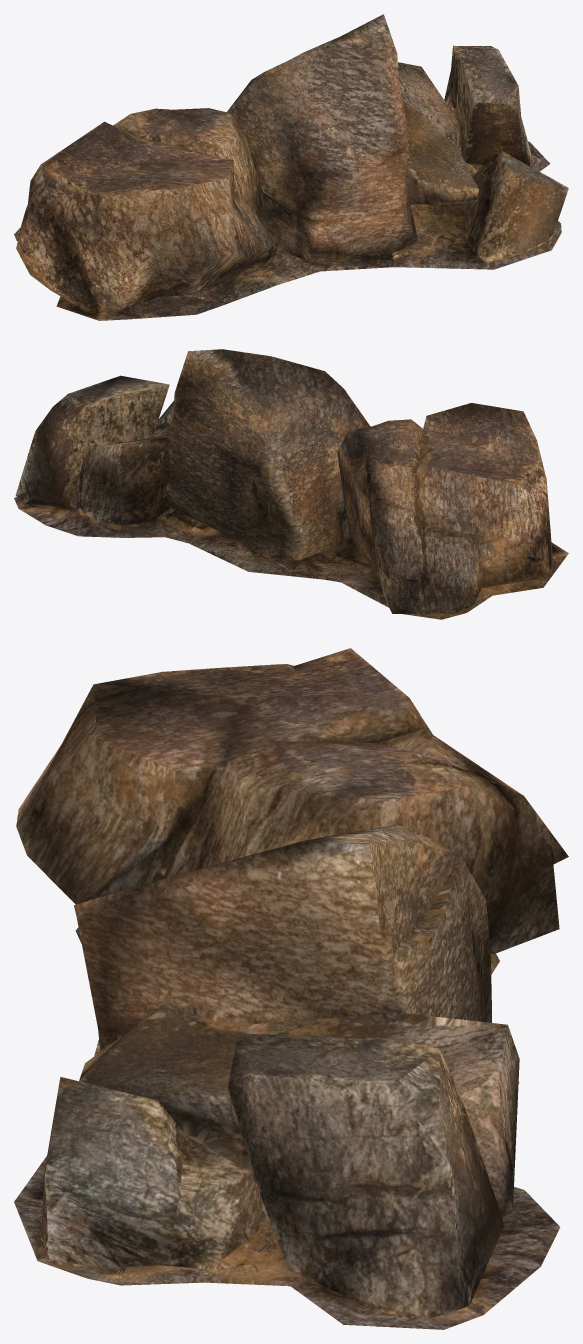
Rendered from ph_namaqualand_boulder_02_lod1.glb.
3 views of the same model, one above another, from view 1: azimuth 30°, elevation 25°; view 2: azimuth 150°, elevation 25°; view 3: azimuth 270°, elevation 25° (orthographic). The views are drawn at different scales.
Visible parts, largest first — view 1: boulder_02; view 2: boulder_02; view 3: boulder_02.
Boxes of the visible parts, bbox=[...] form: boulder_02: bbox=[14, 14, 568, 320]; boulder_02: bbox=[14, 349, 568, 619]; boulder_02: bbox=[14, 648, 568, 1329].
Size of the model in its own units: 2.51 by 0.8562 by 1.23.
1 material, 1 textured.
